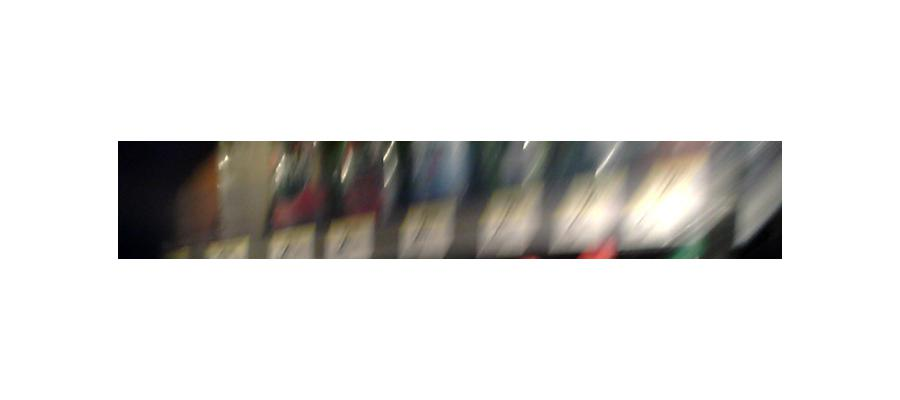bottle: (212, 131, 283, 251), (408, 136, 467, 248), (327, 144, 383, 257), (270, 138, 323, 246), (174, 144, 220, 254)
